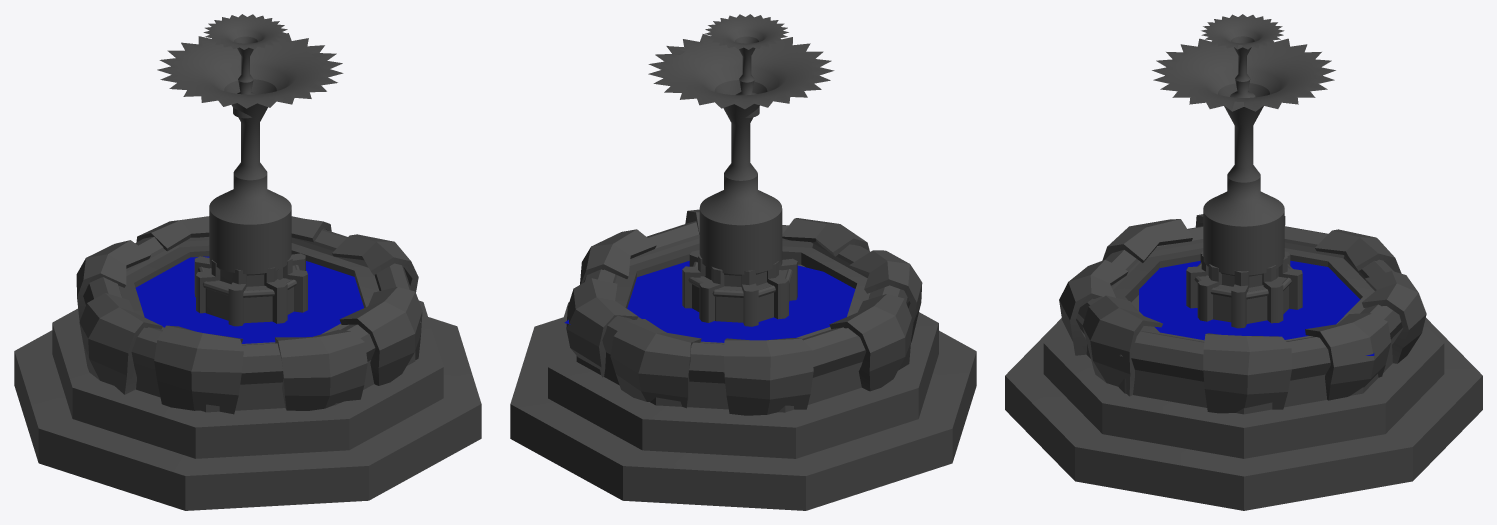
Rendered from FOUNTAIN.fbx.
3 views of the same model, side by side, from view 1: azimuth 30°, elevation 25°; view 2: azimuth 150°, elevation 25°; view 3: azimuth 270°, elevation 25° (orthographic).
Parts seen in each view (by area): view 1: pCylinder19; view 2: pCylinder19; view 3: pCylinder19.
Boxes of the visible parts, <box> form: pCylinder19: <box>14,14,481,510</box>; pCylinder19: <box>510,14,976,510</box>; pCylinder19: <box>1005,14,1482,510</box>.
Size of the model in its own units: 592 by 518 by 592.
